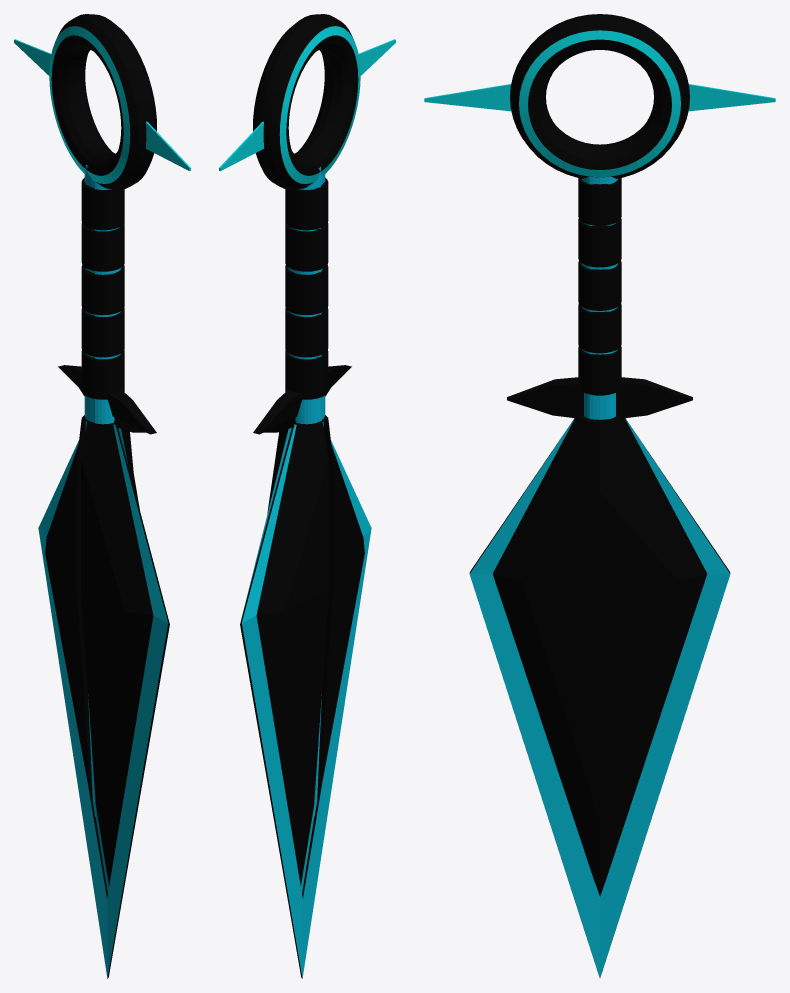
File: kuanai.fbx
3 renders of one model, left to right at view 1: azimuth 30°, elevation 25°; view 2: azimuth 150°, elevation 25°; view 3: azimuth 270°, elevation 25°, orthographic.
Visible parts, largest first — view 1: 平面, トーラス, 円柱.005, 平面.002, 平面.001, 円柱; view 2: 平面, トーラス, 円柱.005, 平面.002, 平面.001, 円柱; view 3: 平面, トーラス, 円柱.005, 平面.002, 平面.001, 円柱.
Boxes of the visible parts, x1,y1,x2,y2 form: 平面: (38, 415, 169, 978); トーラス: (49, 14, 156, 189); 円柱.005: (81, 178, 124, 399); 平面.002: (58, 365, 156, 434); 平面.001: (14, 39, 190, 171); 円柱: (84, 165, 121, 430); 平面: (240, 415, 371, 978); トーラス: (253, 14, 360, 189); 円柱.005: (285, 178, 328, 399); 平面.002: (253, 365, 351, 434); 平面.001: (219, 39, 395, 171); 円柱: (288, 167, 325, 426); 平面: (469, 416, 730, 977); トーラス: (510, 14, 689, 178); 円柱.005: (578, 178, 621, 395); 平面.002: (507, 377, 692, 418); 平面.001: (424, 84, 775, 111); 円柱: (581, 176, 618, 419).
Size of the model in its own units: 88.11 by 1473 by 488.
